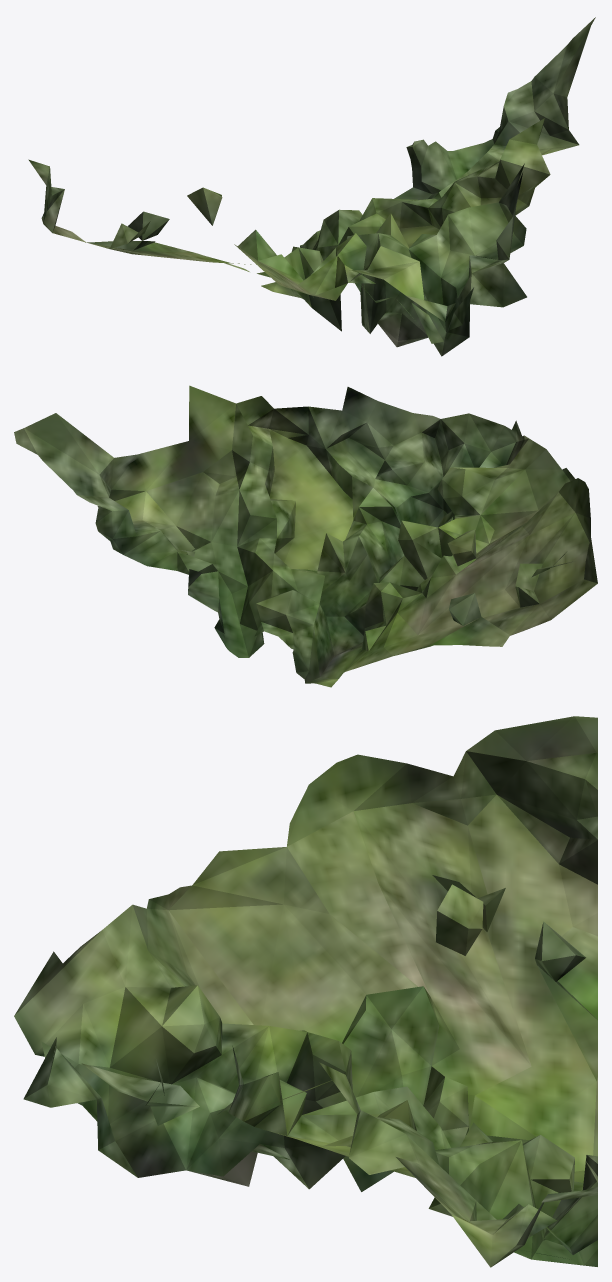
The picture shows the model from 3 angles, top to bottom: view 1: azimuth 30°, elevation 25°; view 2: azimuth 150°, elevation 25°; view 3: azimuth 270°, elevation 25°; orthographic projection. The views are drawn at different scales.
Bounding box in the file's own units: 251 × 88.1 × 142.
Materials: 1 (1 with a texture image).
